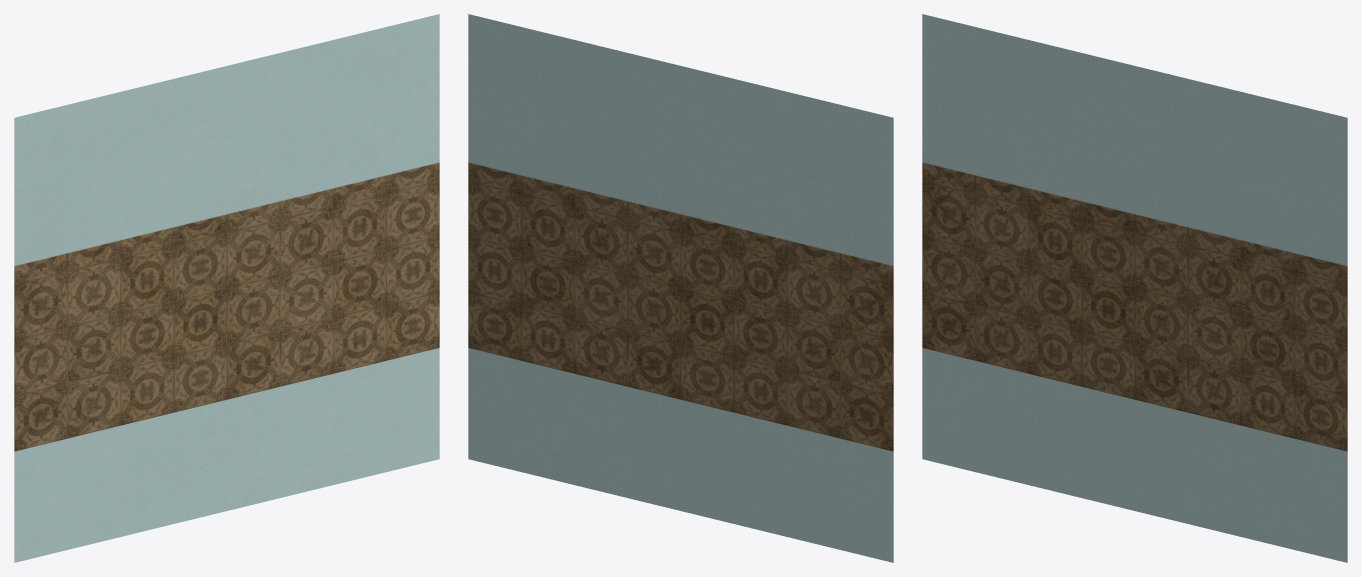
Rendered from Building B Wall A.fbx.
The picture shows the model from 3 angles, left to right: view 1: azimuth 30°, elevation 25°; view 2: azimuth 150°, elevation 25°; view 3: azimuth 330°, elevation 25°; orthographic projection.
Parts seen in each view (by area): view 1: Building B Wall A (2, Baked); view 2: Building B Wall A (2, Baked); view 3: Building B Wall A (2, Baked).
Boxes of the visible parts, x1,y1,x2,y2 form: Building B Wall A (2, Baked): [14, 14, 439, 562]; Building B Wall A (2, Baked): [468, 14, 893, 562]; Building B Wall A (2, Baked): [922, 14, 1347, 562].
Bounding box in the file's own units: 300 × 300 × 4.89e-05.
